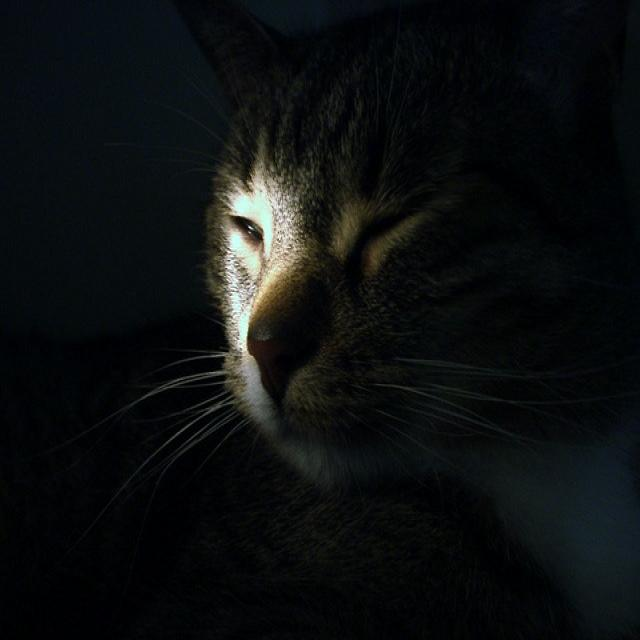Cat: (143, 16, 640, 640)
